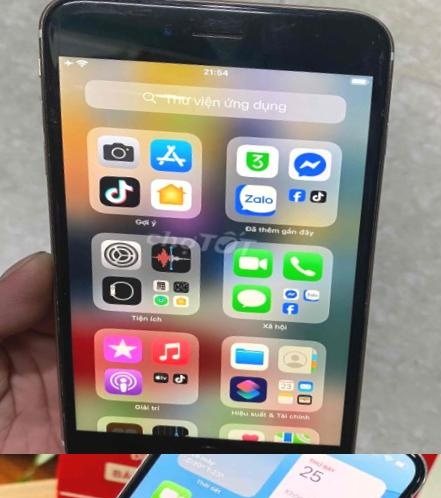physical_damage: (12, 0, 413, 90)
scratch: (24, 74, 73, 197)
